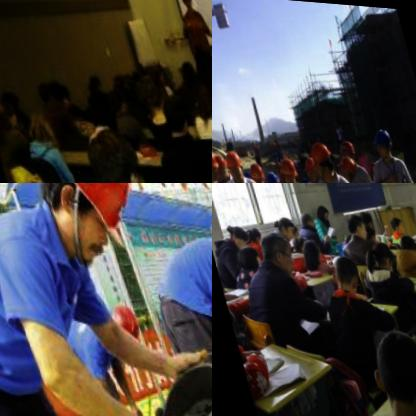head: (355, 315, 416, 412), (70, 120, 141, 183), (251, 227, 295, 280), (155, 88, 195, 142), (322, 251, 360, 298), (179, 63, 212, 113), (110, 101, 144, 140), (228, 238, 261, 277), (128, 64, 158, 106), (359, 234, 393, 271), (294, 234, 322, 267), (340, 208, 366, 242), (267, 210, 294, 242), (219, 220, 245, 251), (77, 66, 102, 97), (282, 228, 305, 256), (167, 49, 191, 75), (292, 207, 314, 234), (352, 203, 373, 231), (382, 210, 403, 233), (308, 200, 328, 224), (393, 227, 413, 249), (242, 224, 260, 247), (48, 83, 65, 106), (357, 220, 374, 242), (0, 85, 13, 113)
helmet: (25, 183, 150, 275), (307, 135, 337, 179), (366, 119, 395, 160), (331, 147, 361, 183), (219, 143, 244, 183), (273, 152, 299, 183), (297, 150, 321, 183), (334, 132, 358, 164), (241, 154, 266, 183), (212, 149, 230, 183), (259, 162, 283, 183), (212, 140, 218, 180)
